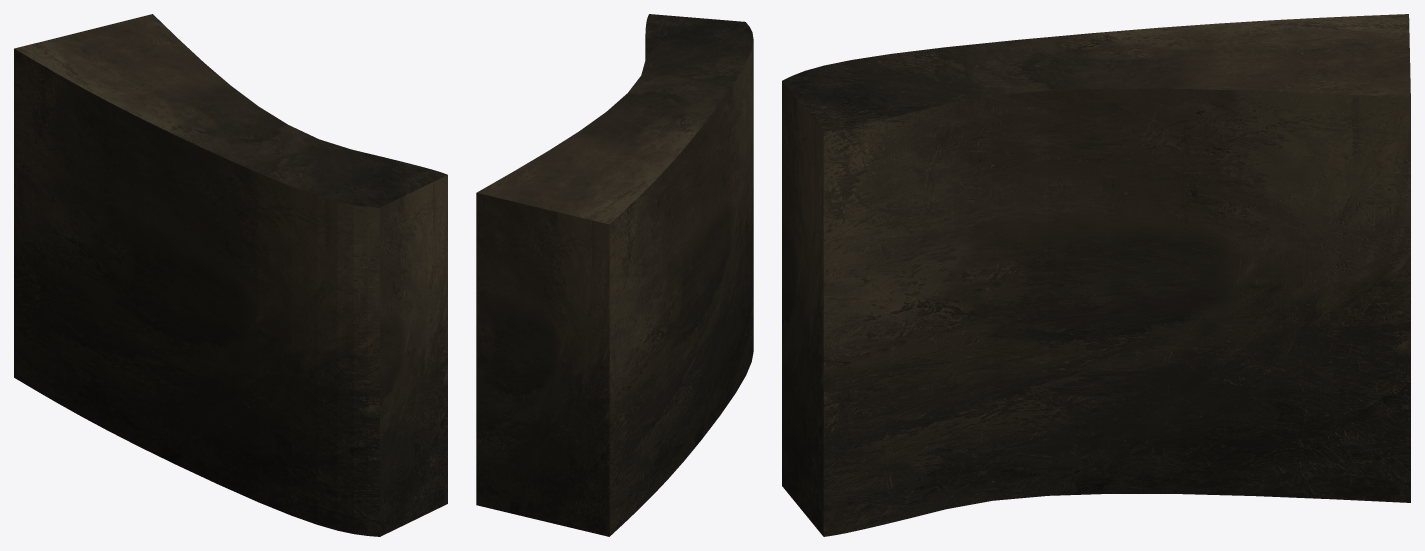
File: marron3.FBX
3 renders of one model, left to right at view 1: azimuth 30°, elevation 25°; view 2: azimuth 150°, elevation 25°; view 3: azimuth 270°, elevation 25°, orthographic. The views are drawn at different scales.
Parts seen in each view (by area): view 1: Ligne012; view 2: Ligne012; view 3: Ligne012.
Part boxes in pixels (x1,y1,x2,y2): Ligne012: [14, 14, 447, 536]; Ligne012: [476, 14, 753, 536]; Ligne012: [782, 14, 1410, 536].
Bounding box in the file's own units: 7.29 × 11.7 × 16.45.
1 material, 1 textured.
